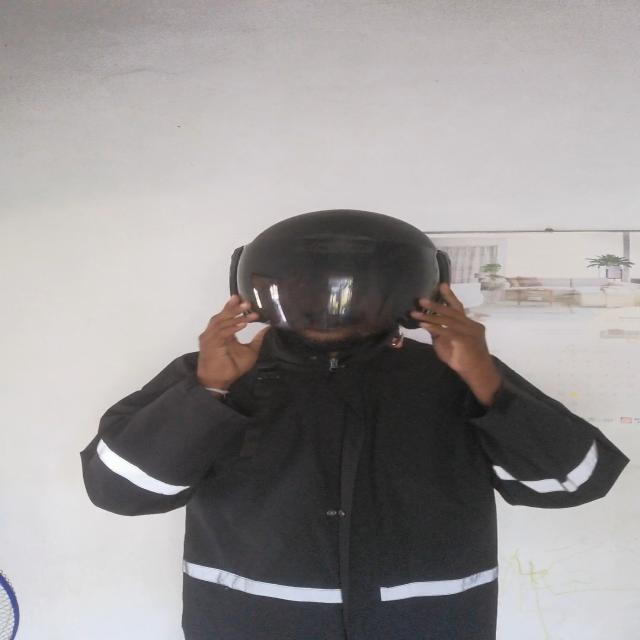Helmet_Wearer: (218, 203, 471, 364)
Jacket_Wearer: (71, 323, 630, 640)
Person: (89, 210, 619, 640)
